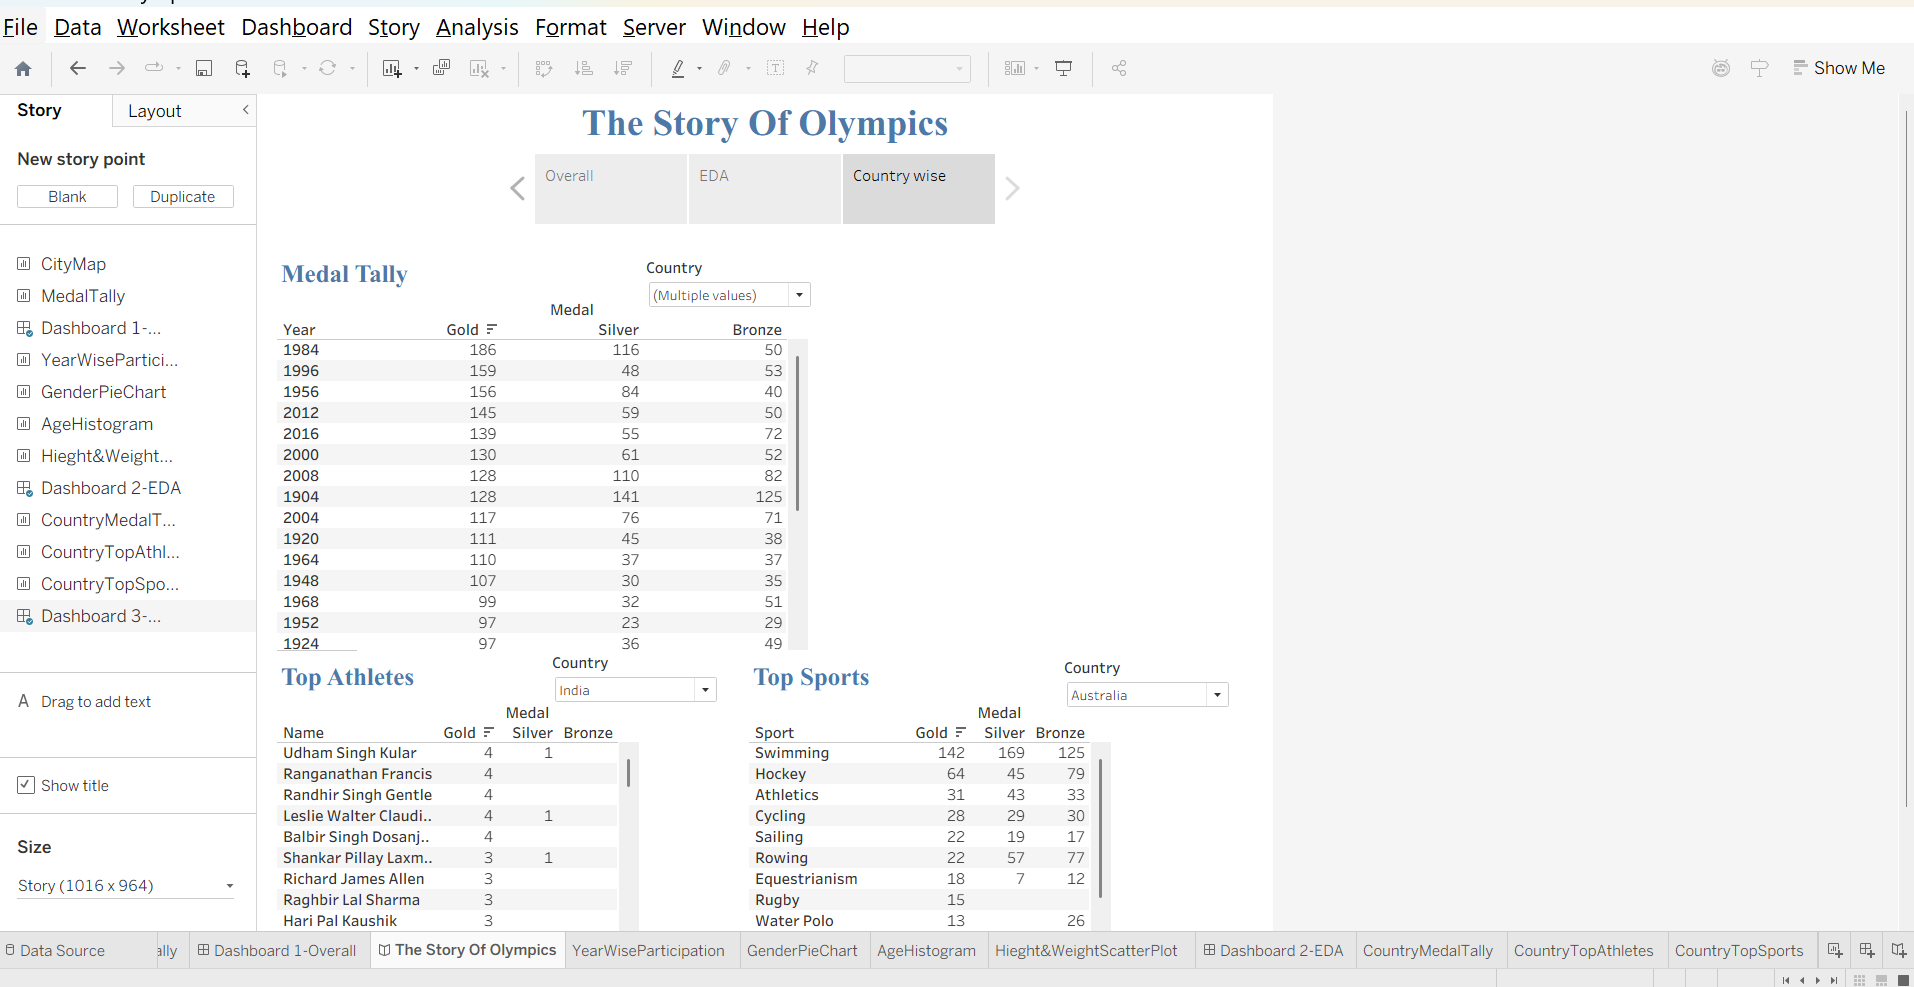

What the dashboard file says about the page in this screenshot:
{"tool":"tableau","page":{"name":"Dashboard 3-CountrySpecific","canvas":[1000,800],"ordinal":2},"visuals":[{"type":"worksheet","title":"CountryMedalTally","mark":"Automatic","rows":["Year"],"cols":["Medal"],"box":[8,8,984,403]},{"type":"filter","title":"CountryMedalTally","param":"[federated.00l03n412hftpc10sm6da0atv8pw].[none:country:nk]","box":[381,13,168,61]},{"type":"filter","title":"CountryTopAthletes","param":"[federated.00l03n412hftpc10sm6da0atv8pw].[none:country:nk]","box":[287,408,168,61]},{"type":"worksheet","title":"CountryTopAthletes","mark":"Automatic","rows":["Name"],"cols":["Medal"],"box":[8,411,472,381]},{"type":"worksheet","title":"CountryTopSports","mark":"Automatic","rows":["Sport"],"cols":["Medal"],"box":[480,411,512,381]},{"type":"filter","title":"CountryTopSports","param":"[federated.00l03n412hftpc10sm6da0atv8pw].[none:country:nk]","box":[799,413,168,61]}]}

Visuals, with their boxes on the page's 1000x800 design canvas (x1, y1, x2, y2). These are canvas units, not pixel positions in the 1914x987 screenshot, which may show the page scaled, cropped or inside an application window:
"CountryMedalTally" worksheet: x1=8 y1=8 x2=992 y2=411
"CountryMedalTally" filter: x1=381 y1=13 x2=549 y2=74
"CountryTopAthletes" filter: x1=287 y1=408 x2=455 y2=469
"CountryTopAthletes" worksheet: x1=8 y1=411 x2=480 y2=792
"CountryTopSports" worksheet: x1=480 y1=411 x2=992 y2=792
"CountryTopSports" filter: x1=799 y1=413 x2=967 y2=474
